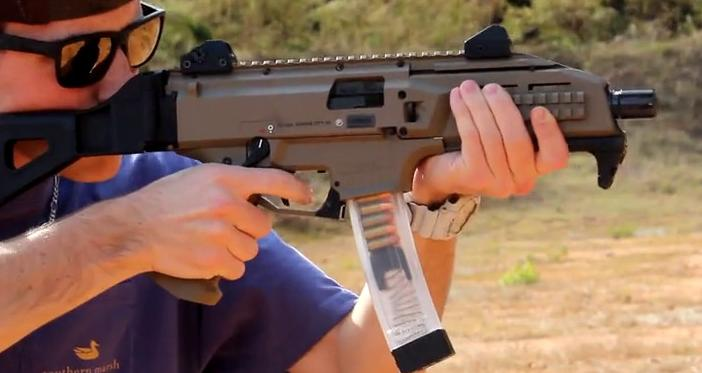gun: (1, 0, 702, 373)
